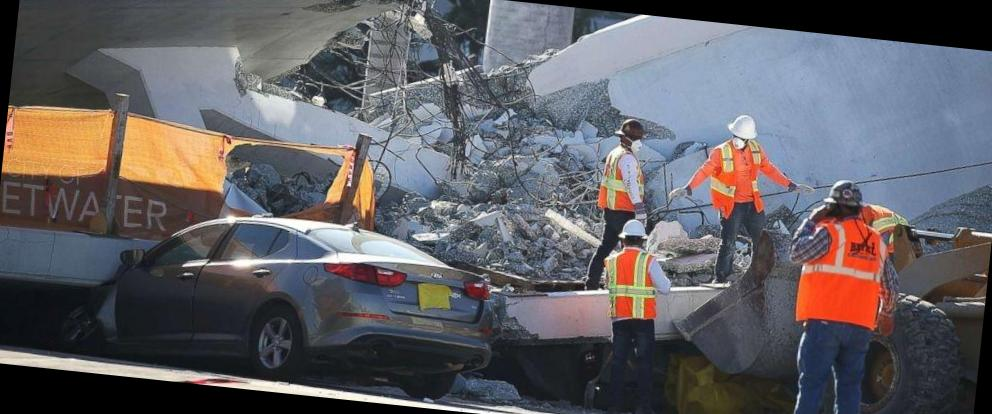Vest: (808, 220, 887, 328), (605, 250, 662, 321), (712, 146, 766, 214)
